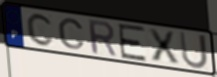C: (56, 17, 87, 51), (25, 12, 55, 47)
E: (116, 23, 148, 63)
R: (86, 18, 119, 58)
U: (178, 30, 210, 70)
X: (146, 28, 182, 66)
